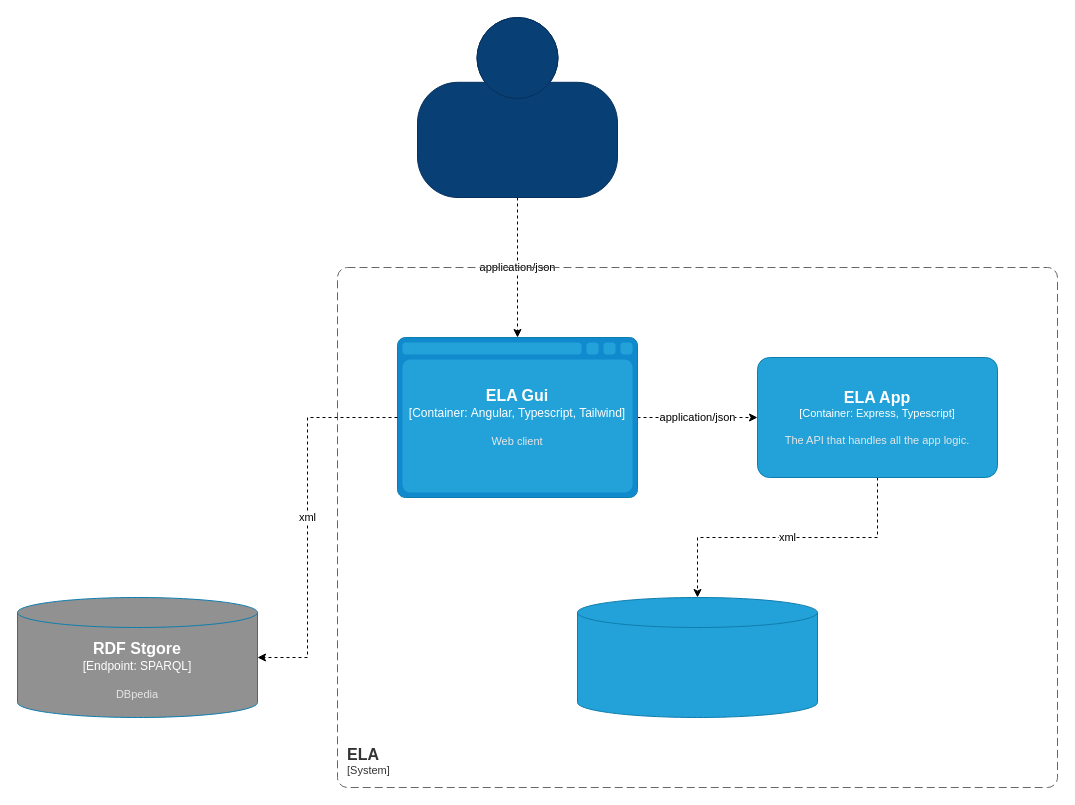
Some shapes in this 1075 by 805 pixel diagram are drawn without their labels. Each missing label, with the centre of its shape:
"RDF Store [Container: SPARQL] Self Hosted RDF" goes at point (697, 657).
"User [Person] The main user that interacts with the sistem." goes at point (517, 107).
